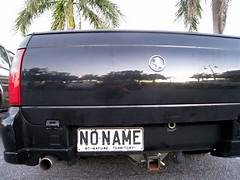number_plate: (77, 127, 144, 151)
